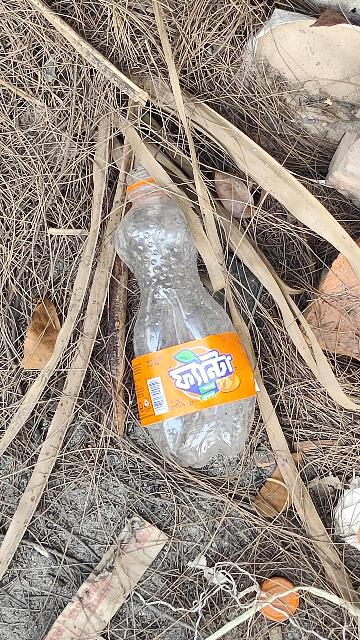bottle: (103, 170, 277, 466)
